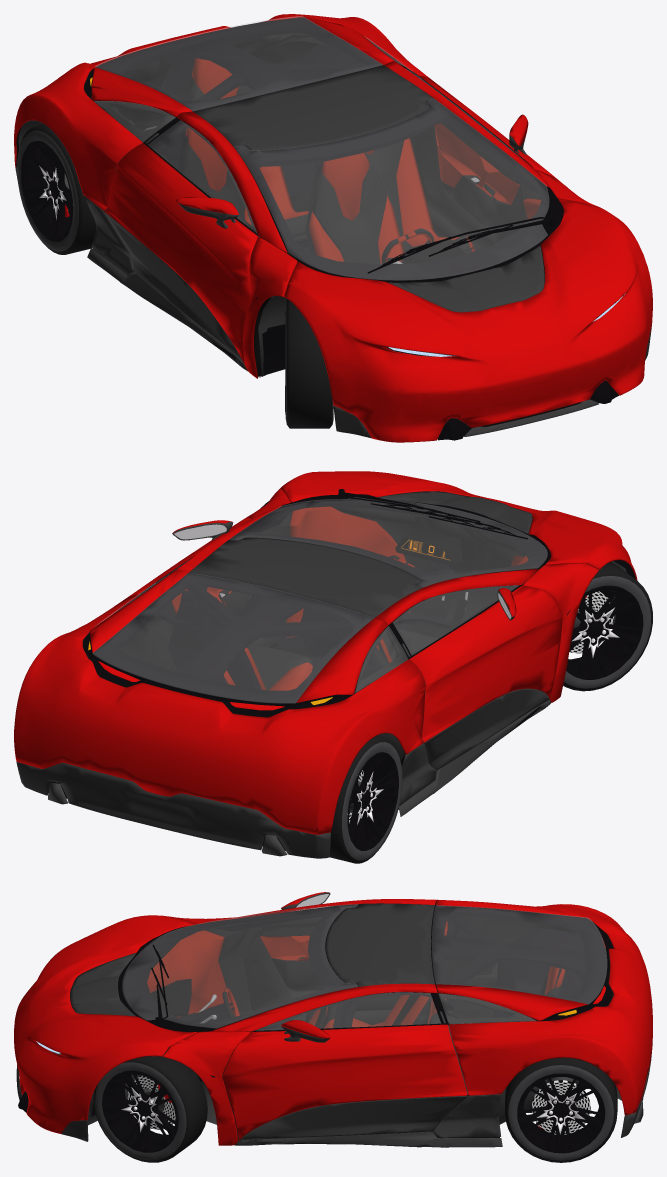
Rendered from khronos_lite.glb.
3 renders of one model, top to bottom at view 1: azimuth 30°, elevation 25°; view 2: azimuth 150°, elevation 25°; view 3: azimuth 270°, elevation 25°, orthographic. The views are drawn at different scales.
Visible parts, largest first — view 1: BodyHood, BodyWindshield, BodyRearwindow, BodyDoorRColor1, BodyRearPanelsColor1, BodyRoofPanel, BodyWindshieldGasket, InteriorSeatsColor1, InteriorSeatsColor2, BodyPillars, InteriorPillar, InteriorRearHatch (+21 smaller); view 2: BodyRearPanelsColor1, BodyRearwindow, BodyWindshield, BodyPanelsColor2, BodyDoorRColor1, BodyRoofPanel, BodyHood, InteriorRearHatch, BodyPillars, InteriorPillar, InteriorDashMid, BodyWindshieldGasket (+22 smaller); view 3: BodyRearPanelsColor1, BodyWindshield, BodyDoorLColor1, BodyHood, BodyRearwindow, BodyRoofPanel, BodyPillars, BodyWindshieldGasket, BodyDoorLColor2, BodyPanelsColor2, object 83, InteriorRearHatch (+25 smaller).
Part boxes in pixels (x1,y1,x2,y2): BodyHood: (284,198,652,442); BodyWindshield: (234,98,549,280); BodyRearwindow: (95,16,382,110); BodyDoorRColor1: (104,143,257,363); BodyRearPanelsColor1: (14,14,430,210); BodyRoofPanel: (193,65,432,150); BodyWindshieldGasket: (234,99,563,282); InteriorSeatsColor1: (185,58,474,264); InteriorSeatsColor2: (180,77,471,264); BodyPillars: (177,61,598,378); InteriorPillar: (158,37,434,168); InteriorRearHatch: (94,17,383,118); BodyRearPanelsColor1: (14,569,425,834); BodyRearwindow: (92,573,373,703); BodyWindshield: (229,497,547,587); BodyPanelsColor2: (16,700,550,858); BodyDoorRColor1: (409,585,562,742); BodyRoofPanel: (189,537,422,617); BodyHood: (278,471,637,579); InteriorRearHatch: (93,573,386,707); BodyPillars: (175,489,599,702); InteriorPillar: (174,574,417,682); InteriorDashMid: (331,502,528,622); BodyWindshieldGasket: (230,497,550,587); BodyRearPanelsColor1: (436,899,652,1115); BodyWindshield: (122,904,357,1028); BodyDoorLColor1: (222,1024,467,1140); BodyHood: (14,915,196,1133); BodyRearwindow: (431,905,606,1003); BodyRoofPanel: (326,903,434,986); BodyPillars: (163,899,437,1145); BodyWindshieldGasket: (118,905,357,1032); BodyDoorLColor2: (240,1096,467,1140); BodyPanelsColor2: (16,1053,651,1147); object 83: (93,1054,207,1162); InteriorRearHatch: (431,905,606,1020).
Size of the model in its own units: 2.54 by 1.15 by 4.36.
Materials: 22 (4 with a texture image).
